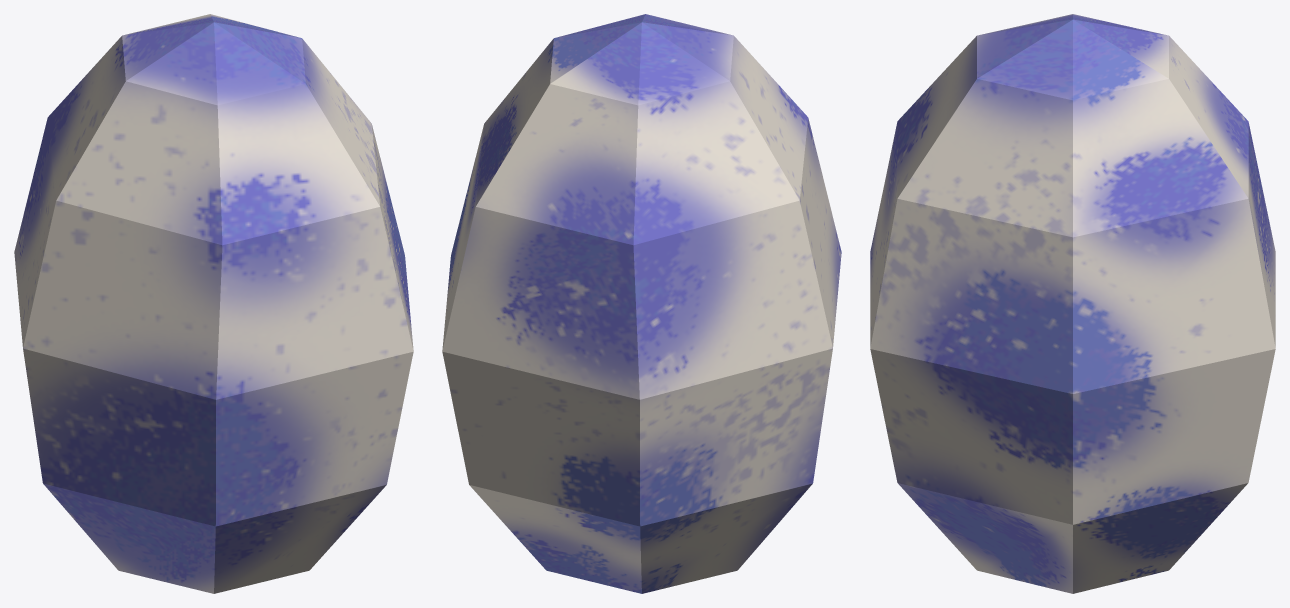
File: SM_dinoEgg.fbx
3 renders of one model, left to right at view 1: azimuth 30°, elevation 25°; view 2: azimuth 150°, elevation 25°; view 3: azimuth 270°, elevation 25°, orthographic.
Parts seen in each view (by area): view 1: dinoEgg; view 2: dinoEgg; view 3: dinoEgg.
Boxes of the visible parts, x1,y1,x2,y2 form: dinoEgg: [14, 14, 413, 593]; dinoEgg: [442, 14, 841, 593]; dinoEgg: [870, 14, 1275, 593].
Size of the model in its own units: 5.33 by 7.01 by 4.88.
